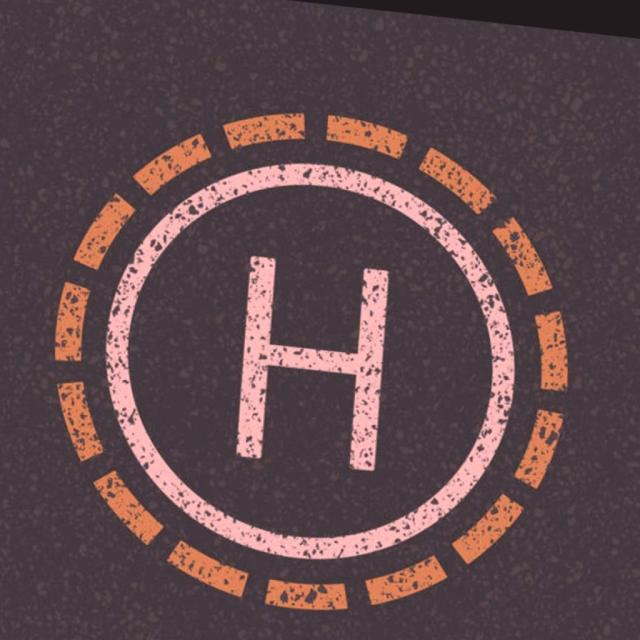helipad: (100, 156, 518, 564)
